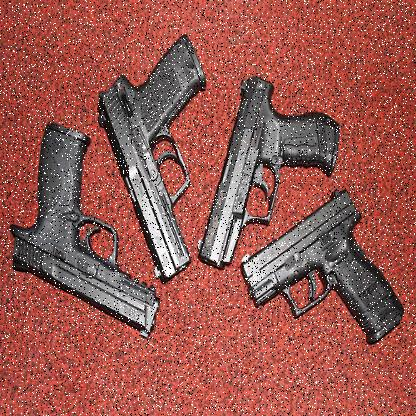pistol: (11, 120, 159, 341), (193, 79, 341, 267), (97, 36, 205, 284), (240, 188, 401, 345)
